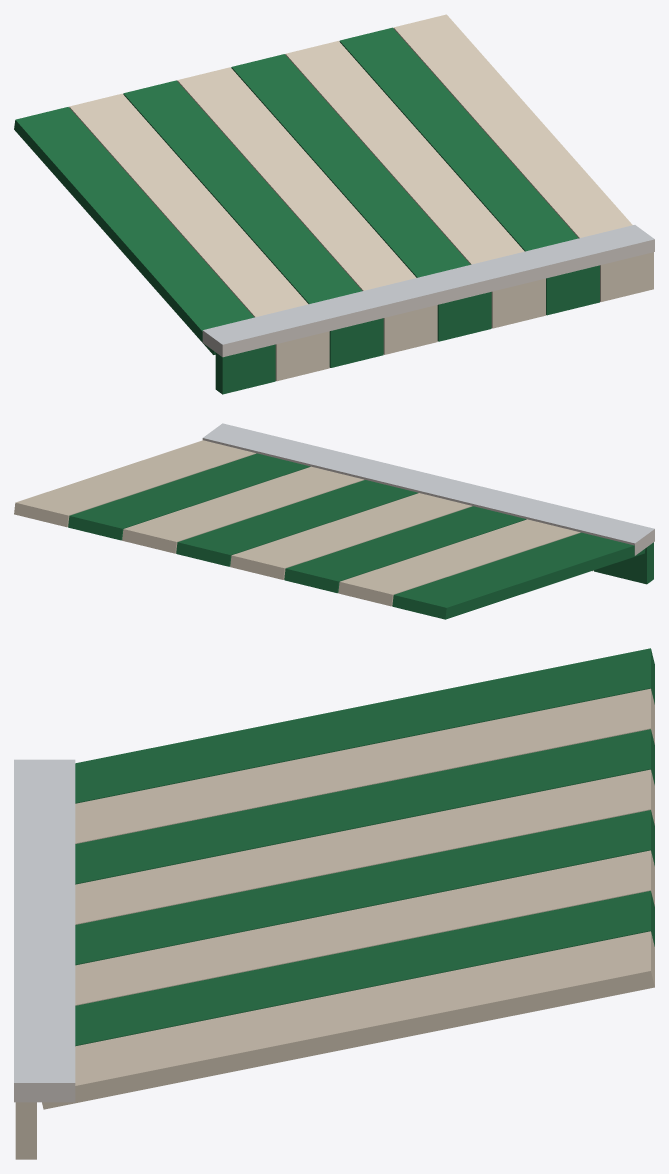
File: Stall_Green_Canopy.glb
3 renders of one model, top to bottom at view 1: azimuth 30°, elevation 25°; view 2: azimuth 150°, elevation 25°; view 3: azimuth 270°, elevation 25°, orthographic. The views are drawn at different scales.
Parts seen in each view (by area): view 1: Stall_Green_Canopy; view 2: Stall_Green_Canopy; view 3: Stall_Green_Canopy.
Part boxes in pixels (box(x1,y1,x2,y2)): Stall_Green_Canopy: box(14, 14, 654, 394); Stall_Green_Canopy: box(14, 423, 654, 619); Stall_Green_Canopy: box(14, 648, 654, 1159).
Bounding box in the file's own units: 9 × 2.45 × 7.54.
